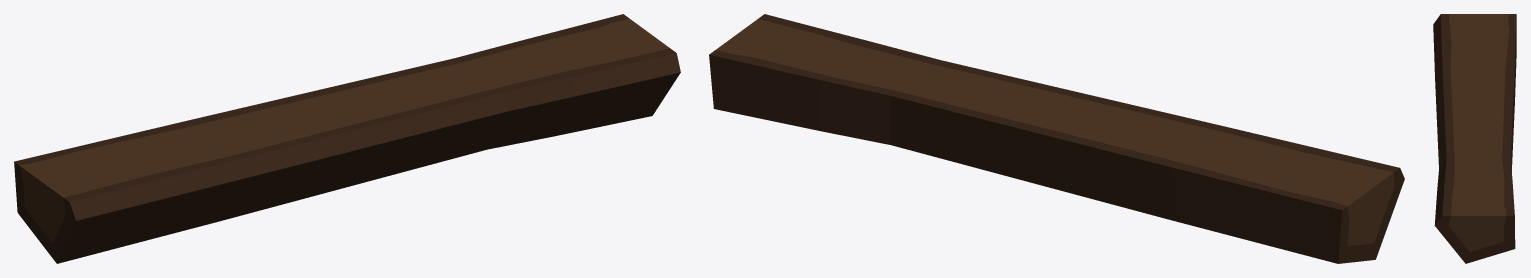
File: Tribal_Plains_Log_Bench_Wood_Timber_01.fbx
3 renders of one model, left to right at view 1: azimuth 30°, elevation 25°; view 2: azimuth 150°, elevation 25°; view 3: azimuth 270°, elevation 25°, orthographic. The views are drawn at different scales.
Parts seen in each view (by area): view 1: Tribal_Plains_Log_Bench_Wood_Timber_01; view 2: Tribal_Plains_Log_Bench_Wood_Timber_01; view 3: Tribal_Plains_Log_Bench_Wood_Timber_01.
Part boxes in pixels (x1,y1,x2,y2): Tribal_Plains_Log_Bench_Wood_Timber_01: (14,14,680,263); Tribal_Plains_Log_Bench_Wood_Timber_01: (709,14,1404,263); Tribal_Plains_Log_Bench_Wood_Timber_01: (1433,14,1516,263).
Bounding box in the file's own units: 3.19 × 0.3819 × 0.5571.
